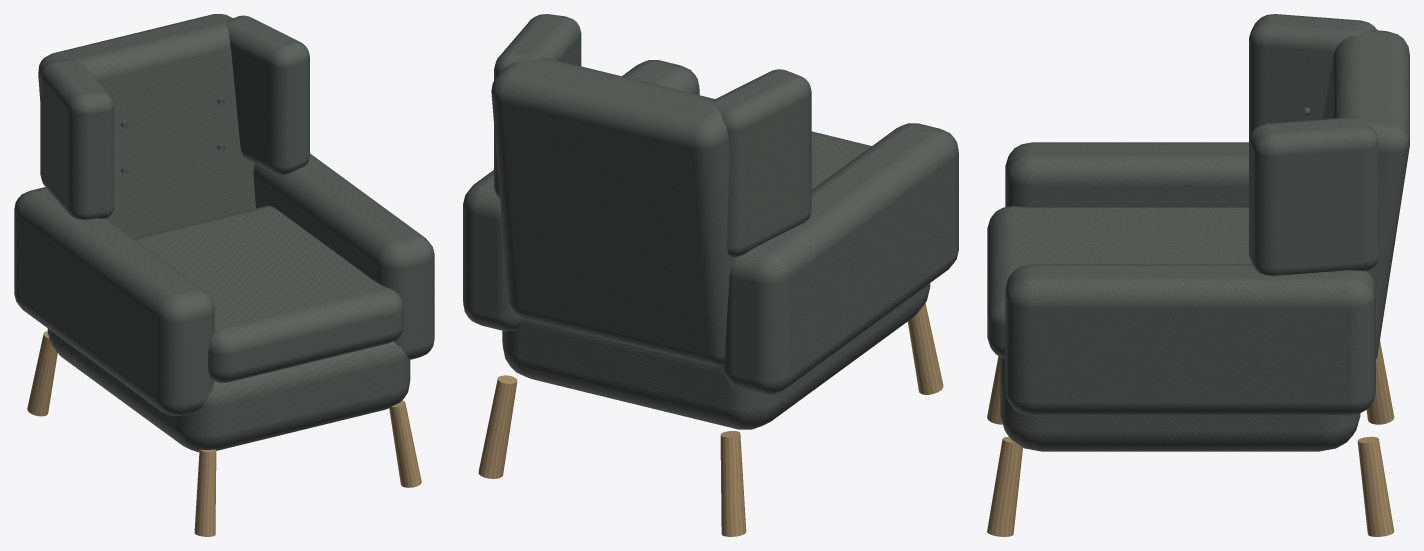
The model's file is strandmon.glb.
3 renders of one model, left to right at view 1: azimuth 30°, elevation 25°; view 2: azimuth 150°, elevation 25°; view 3: azimuth 270°, elevation 25°, orthographic. The views are drawn at different scales.
Visible parts, largest first — view 1: STRANDMON Wing chair; view 2: STRANDMON Wing chair; view 3: STRANDMON Wing chair.
Part boxes in pixels (x1,y1,x2,y2): STRANDMON Wing chair: (14, 14, 434, 536); STRANDMON Wing chair: (463, 14, 958, 536); STRANDMON Wing chair: (987, 14, 1409, 536).
Size of the model in its own units: 0.82 by 1.01 by 0.96.
Materials: 2 (2 with a texture image).
